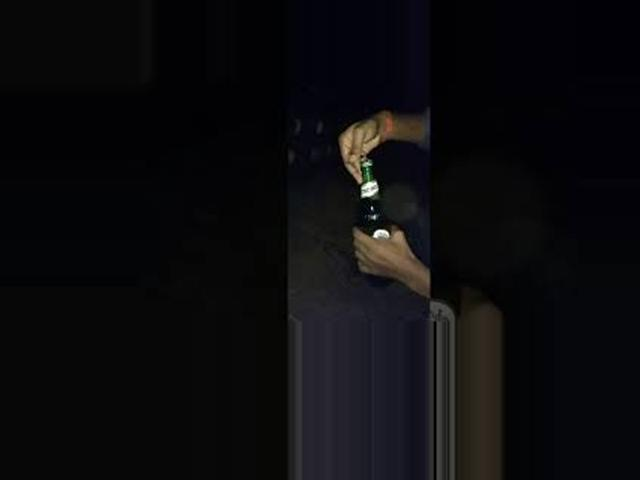beer: (356, 160, 398, 286)
